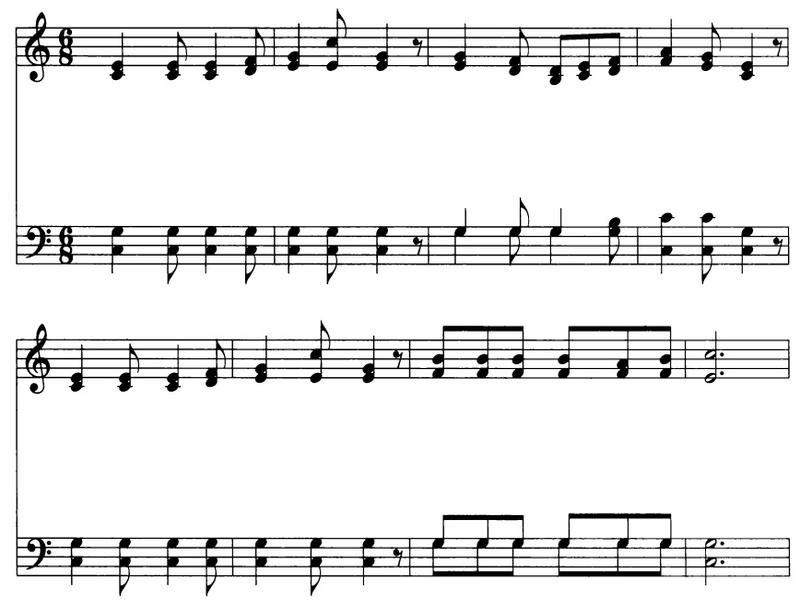B: (698, 530, 718, 586), (704, 325, 717, 387), (704, 326, 717, 362), (700, 555, 716, 582), (704, 361, 719, 389), (702, 532, 716, 549)
C: (298, 313, 337, 385), (323, 1, 355, 81), (233, 213, 269, 284), (312, 211, 348, 280), (425, 312, 457, 386), (109, 519, 138, 598), (192, 329, 227, 394), (500, 318, 535, 382), (301, 526, 332, 596), (236, 19, 269, 82), (195, 524, 222, 599), (596, 205, 627, 268), (161, 205, 185, 286), (506, 177, 536, 241), (700, 9, 727, 74), (470, 318, 496, 385), (502, 21, 532, 79), (115, 335, 141, 400), (613, 317, 636, 388), (562, 315, 585, 386), (547, 28, 576, 84), (164, 25, 187, 87), (556, 534, 582, 584), (652, 494, 677, 546), (659, 314, 677, 384), (480, 502, 504, 552), (507, 503, 527, 561), (609, 505, 637, 546), (607, 15, 625, 78), (652, 535, 676, 582), (577, 28, 598, 79), (505, 224, 531, 265), (432, 509, 459, 547), (556, 512, 580, 554), (697, 243, 718, 283), (430, 537, 449, 578), (506, 534, 522, 582), (613, 536, 629, 584), (657, 318, 672, 365), (473, 540, 489, 576)
CF: (23, 521, 53, 582), (21, 206, 52, 264)
CS: (21, 314, 57, 403), (19, 4, 52, 88)
N: (344, 529, 382, 593), (100, 15, 137, 80), (67, 333, 97, 400), (158, 328, 188, 395), (443, 18, 477, 74), (275, 216, 305, 278), (654, 199, 677, 279), (155, 525, 186, 583), (367, 211, 394, 277), (650, 11, 680, 69), (250, 328, 278, 390), (59, 534, 88, 589), (106, 219, 134, 274), (245, 529, 271, 587), (732, 221, 758, 274), (370, 20, 395, 74), (737, 24, 757, 88), (358, 326, 377, 391), (197, 219, 220, 271), (203, 30, 223, 85), (449, 194, 475, 235), (447, 225, 469, 266), (286, 22, 304, 71), (547, 224, 563, 266), (550, 203, 567, 236), (699, 211, 713, 239)
P: (721, 538, 732, 553), (717, 366, 728, 379), (717, 558, 730, 566), (717, 351, 727, 360)
SN: (388, 335, 407, 367), (407, 29, 425, 60), (767, 32, 785, 61), (768, 230, 786, 258), (387, 544, 406, 567), (411, 234, 424, 257)
